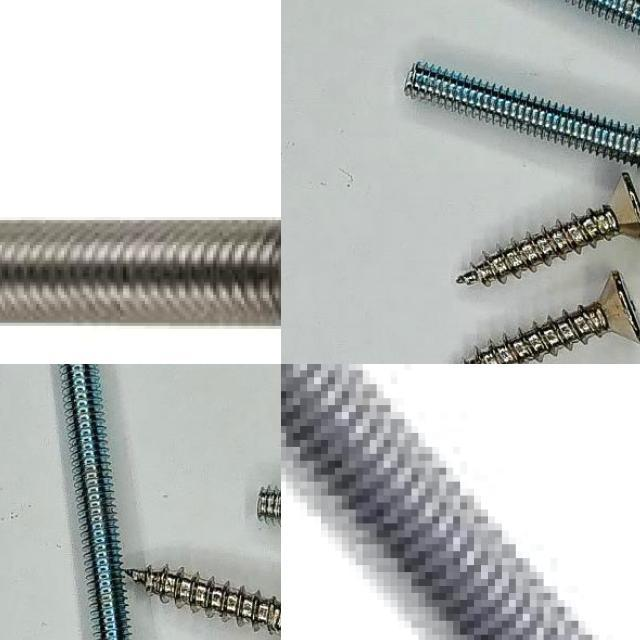Screw: (281, 364, 588, 640), (0, 220, 281, 329), (404, 63, 640, 168), (456, 173, 640, 286), (58, 364, 129, 640), (464, 273, 640, 364), (124, 567, 281, 638), (256, 486, 281, 524)
